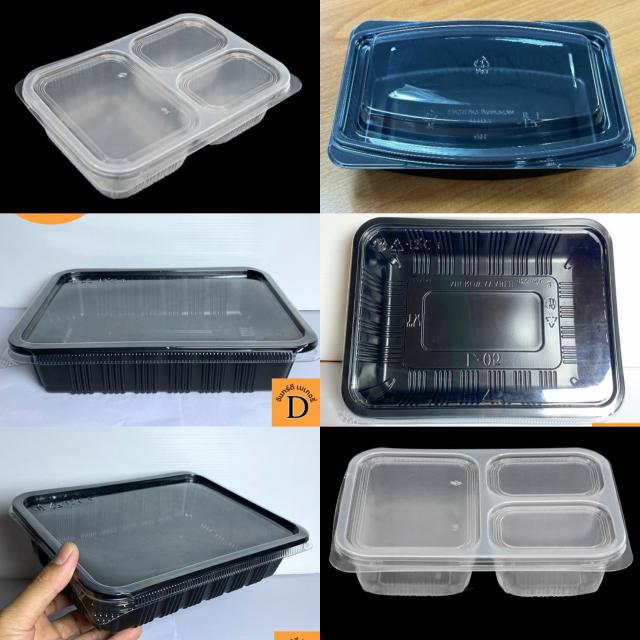plastik: (342, 218, 624, 422), (16, 14, 300, 199), (10, 472, 309, 631), (328, 21, 635, 170), (330, 448, 632, 596), (9, 268, 316, 393)
